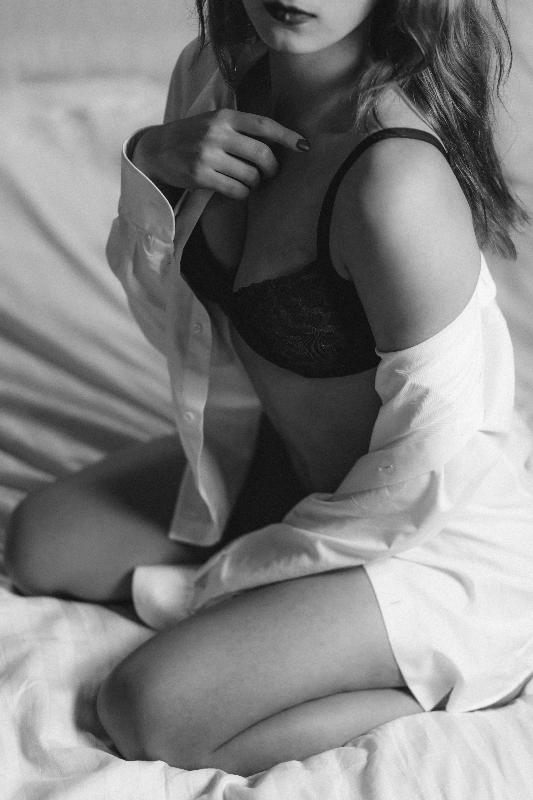Person: (14, 4, 533, 772)
